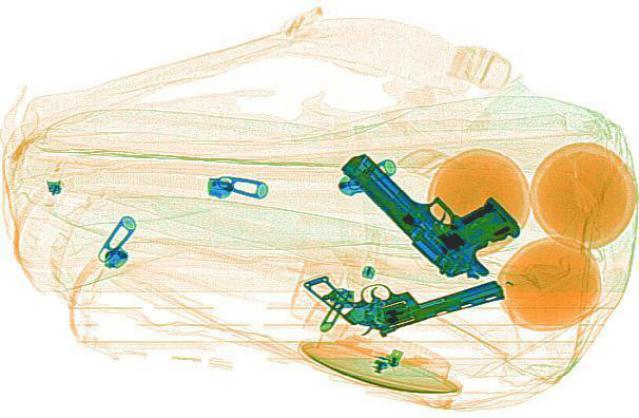Gun: (329, 129, 550, 285), (298, 235, 511, 344)
